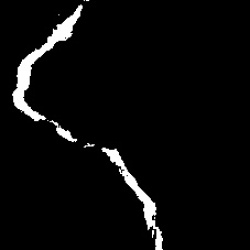crack: (12, 4, 167, 248)
